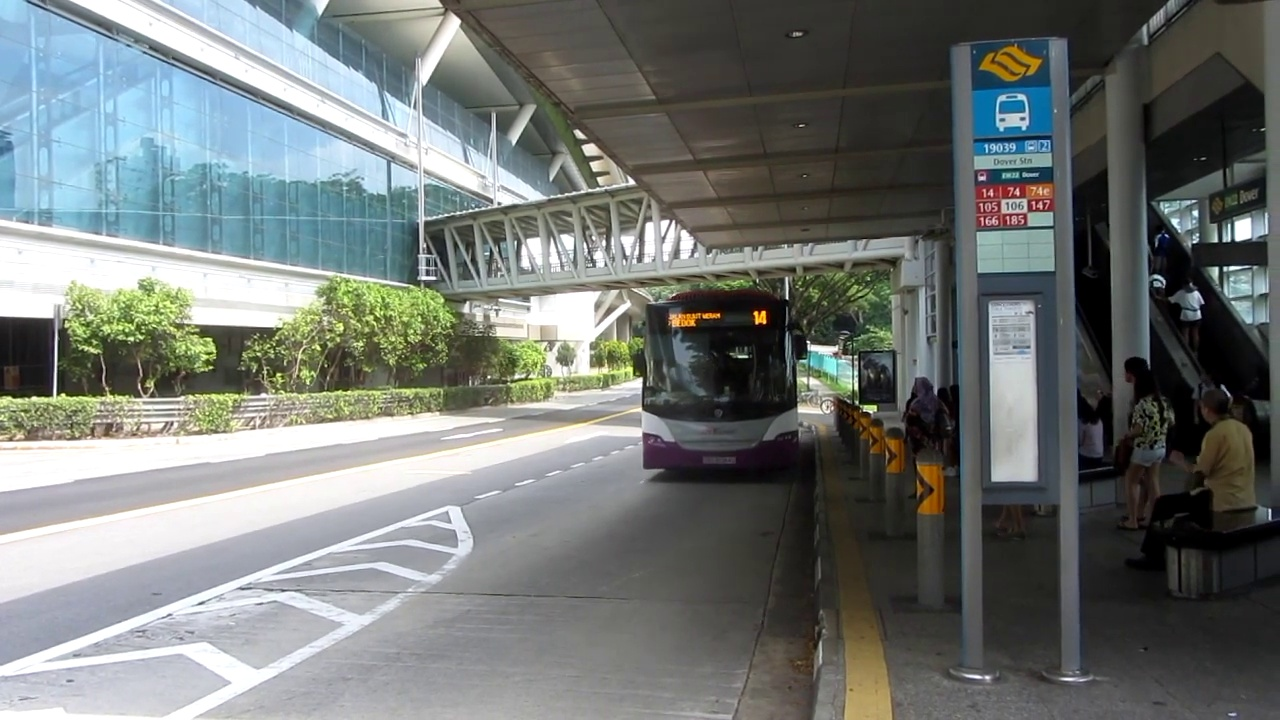bus panel: (664, 309, 771, 329)
